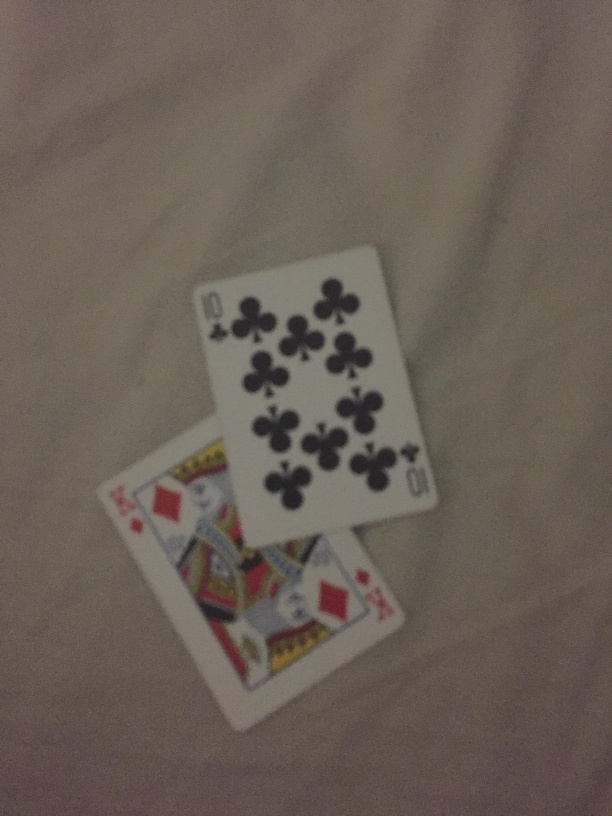10: (190, 240, 442, 540)
king: (94, 411, 407, 731)
